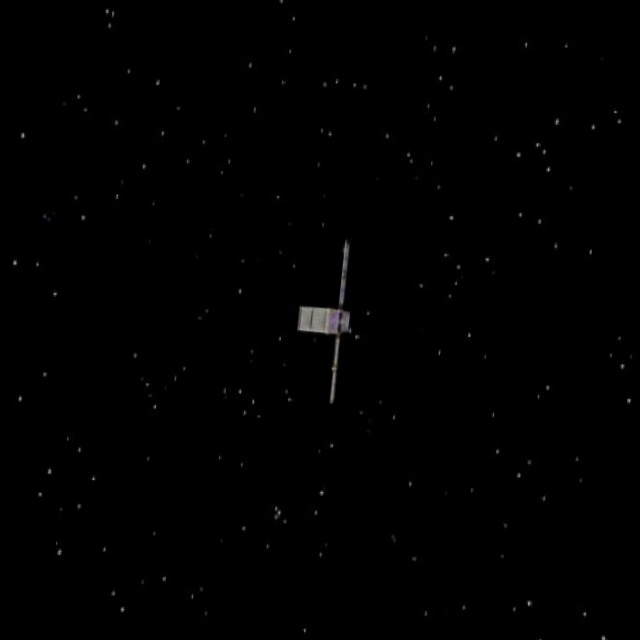medium_debris: (281, 230, 376, 414)
